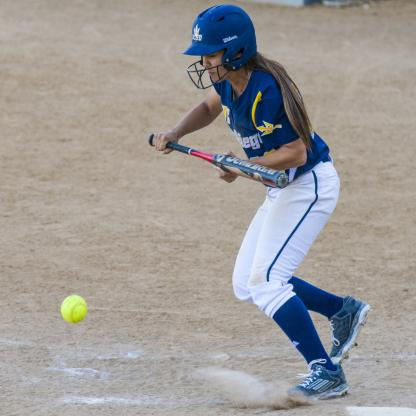Helmet: (186, 5, 260, 85)
